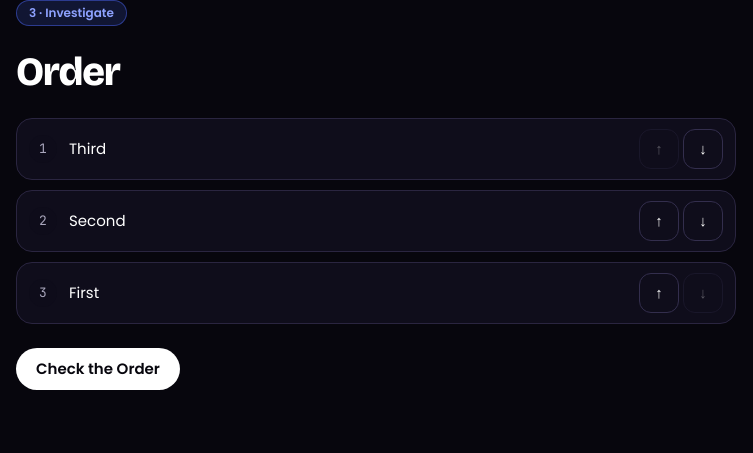
Scenario: says what is wrong with a wrong order, and lets the learner keep going
The width and height of the screenshot is (753, 453).
Click the button "Check the Order": x=98, y=369 [16,348,180,390]
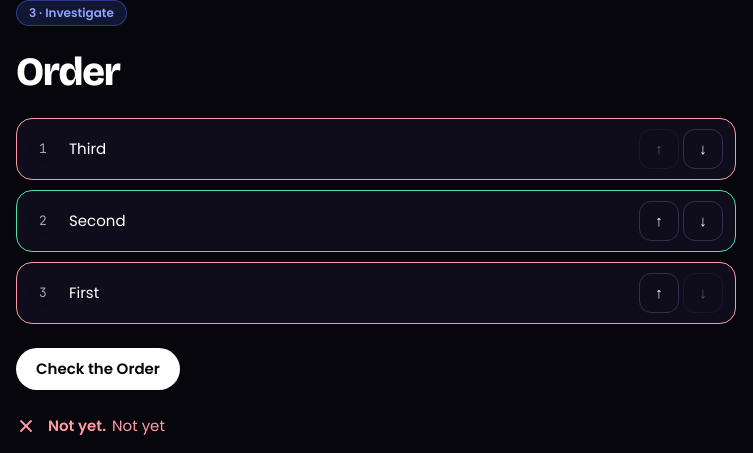
Check: the text "Not yet" is shown, box [112,415,165,436]
